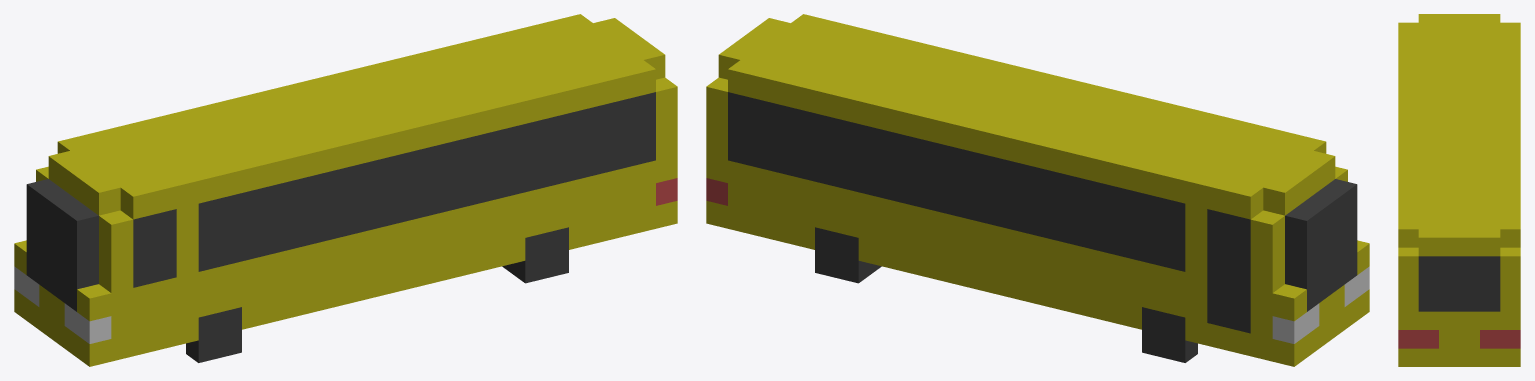
File: bus-big-yellow.gltf
3 renders of one model, left to right at view 1: azimuth 30°, elevation 25°; view 2: azimuth 150°, elevation 25°; view 3: azimuth 270°, elevation 25°, orthographic. The views are drawn at different scales.
Parts seen in each view (by area): view 1: model, wheels; view 2: model, wheels; view 3: model.
Boxes of the visible parts, x1,y1,x2,y2 form: model: (14,14,677,366); wheels: (186,227,568,362); model: (706,14,1369,366); wheels: (815,227,1197,362); model: (1398,14,1520,366).
Bounding box in the file's own units: 2.7 × 0.8 × 0.6.
2 materials, 2 textured.
